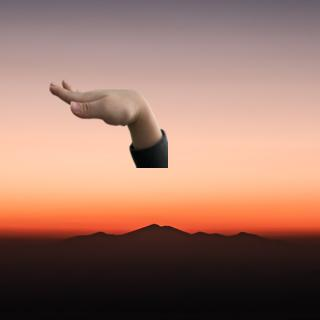Wait: (44, 75, 151, 130)
